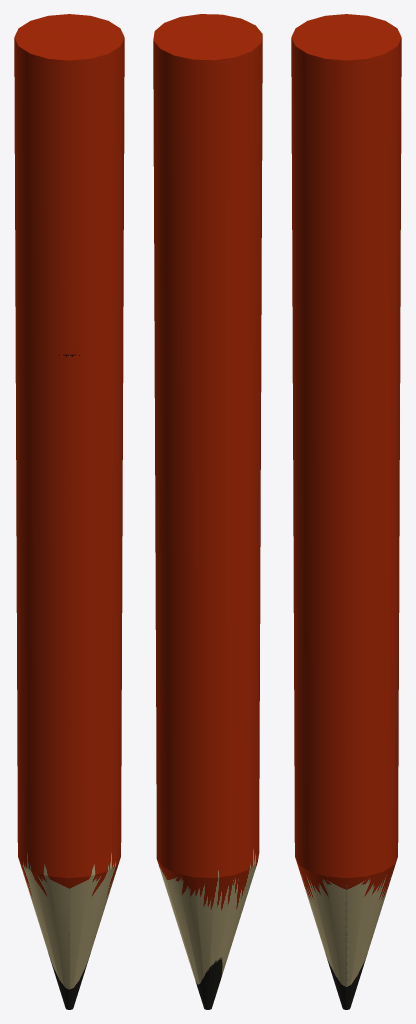
File: penicl.FBX
3 views of the same model, side by side, from view 1: azimuth 90°, elevation 25°; view 2: azimuth 210°, elevation 25°; view 3: azimuth 270°, elevation 25° (orthographic).
Visible parts, largest first — view 1: Line001; view 2: Line001; view 3: Line001.
Part boxes in pixels (x1,y1,x2,y2): Line001: [14, 14, 124, 1009]; Line001: [153, 14, 262, 1009]; Line001: [291, 14, 401, 1009].
Size of the model in its own units: 13.39 by 130 by 13.39.
1 material, 1 textured.
